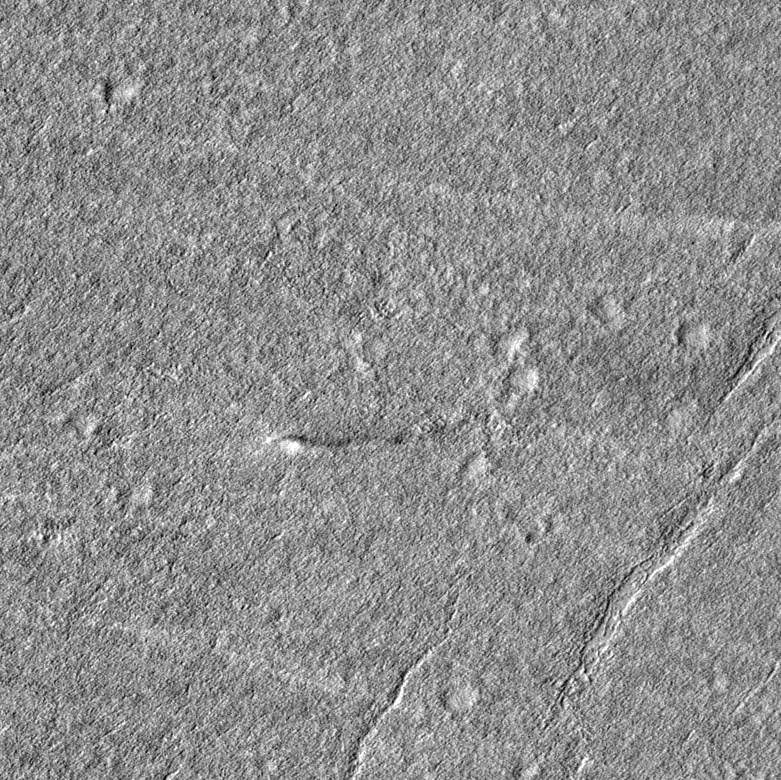dust_devil: (261, 427, 411, 458)
